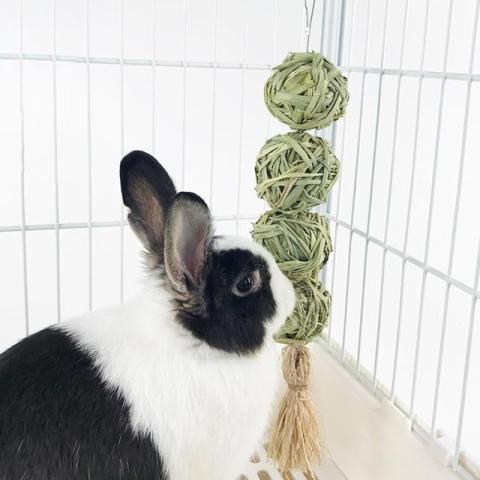small_animal: (0, 148, 298, 478)
